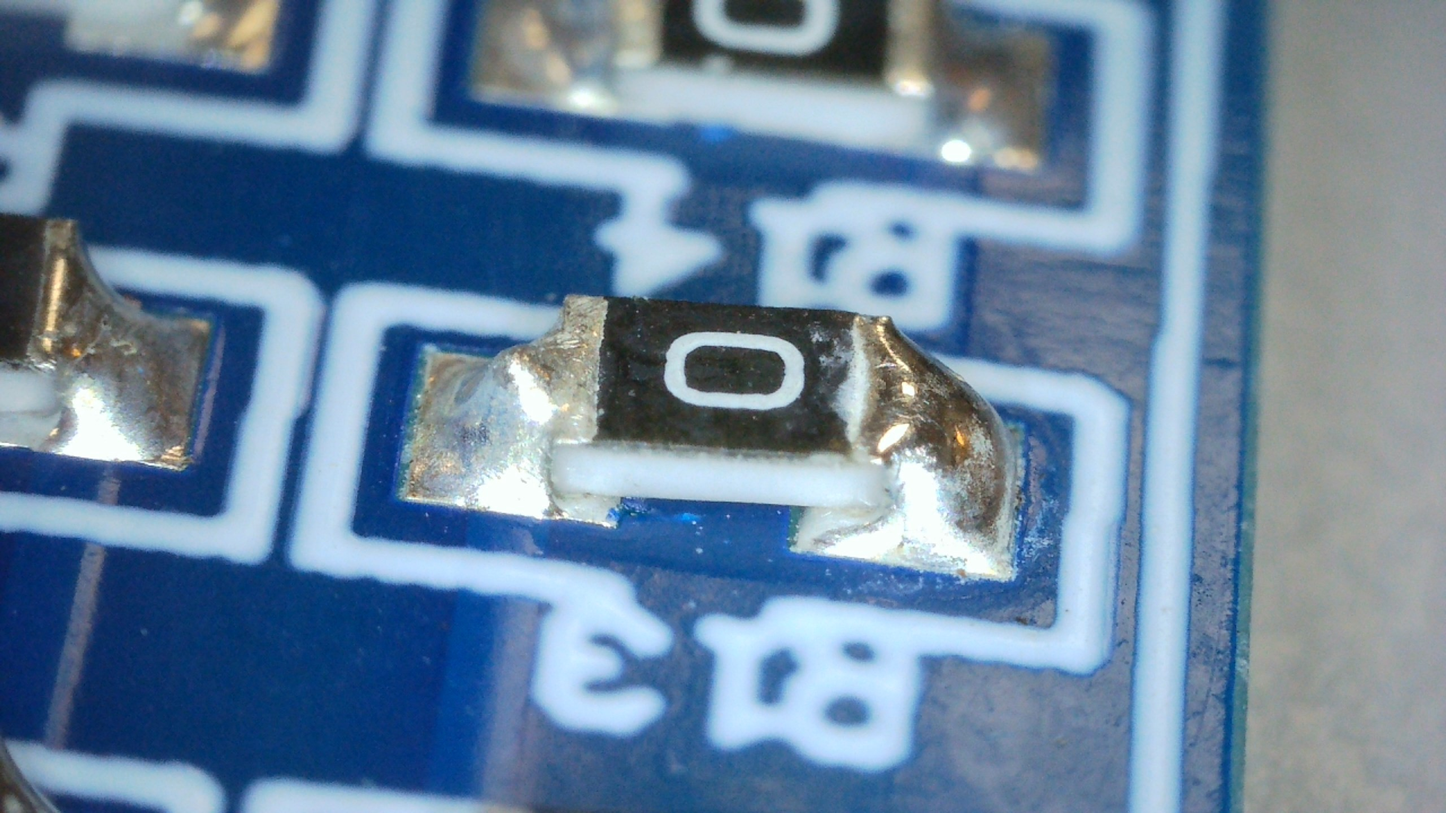NG: (852, 313, 1015, 559), (415, 296, 603, 504), (460, 343, 560, 449)
